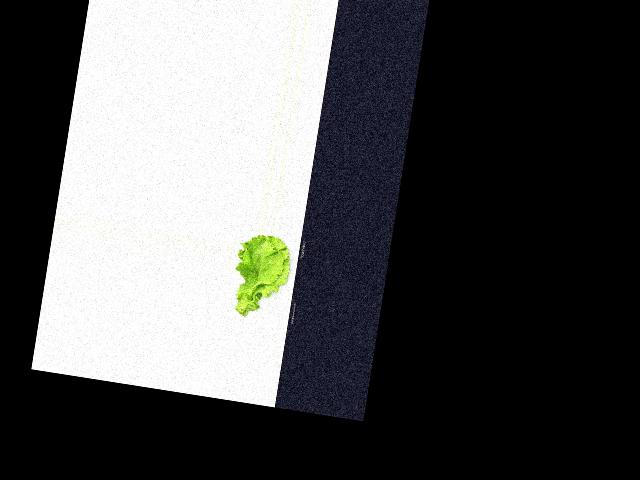lettuce: (228, 231, 298, 321)
